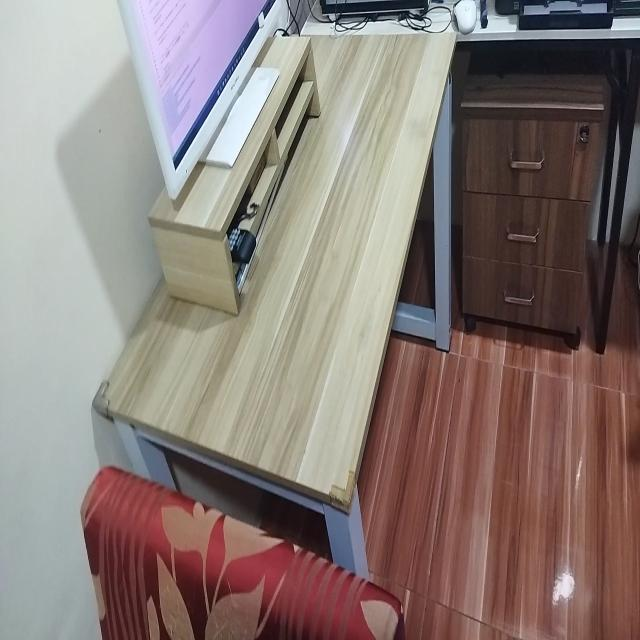table: (78, 34, 461, 508)
